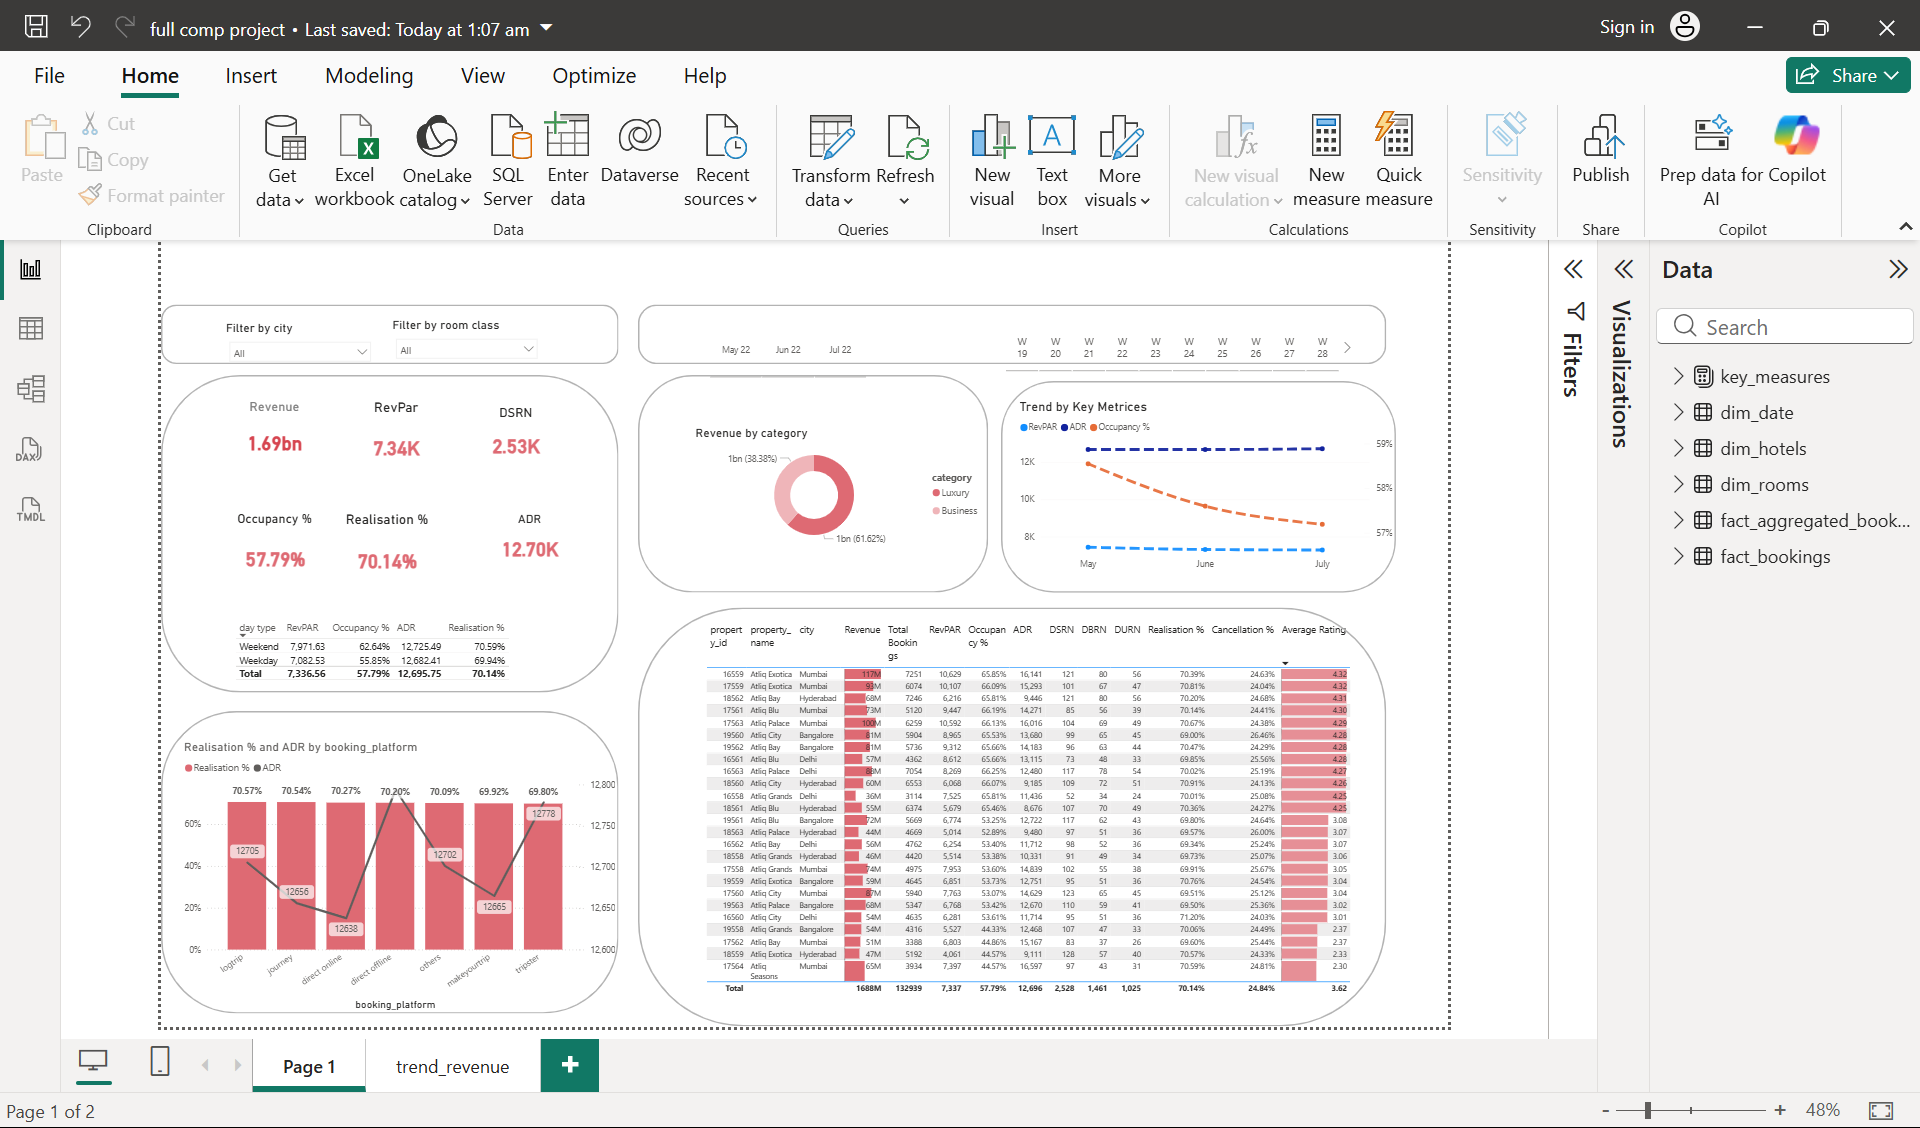

The dashboard page shown, as its layout file describes it:
{"tool":"powerbi","page":{"name":"Page 1","canvas":[1800,1100],"ordinal":0},"visuals":[{"type":"tableEx","fields":{"Values":["dim_hotels.property_id","dim_hotels.property_name","dim_hotels.city","key_measures.Revenue","key_measures.Total Bookings","key_measures.RevPAR","key_measures.Occupancy %","key_measures.ADR","key_measures.DSRN","key_measures.DBRN","key_measures.DURN","key_measures.Realisation %"]},"box":[756.2,529.2,956.2,552.1],"z":0},{"type":"slicer","fields":{"Values":["dim_date.mmm yy"]},"box":[741.7,108.3,266.7,89.6],"z":1000},{"type":"slicer","title":"Filter by city","fields":{"Values":["dim_hotels.city"]},"box":[85.4,112.5,217.2,60.4],"z":1000,"group":"g2"},{"type":"slicer","title":"Filter by room class","fields":{"Values":["dim_rooms.room_class"]},"box":[318.2,108.3,217.2,64.6],"z":2000,"group":"g2"},{"type":"donutChart","fields":{"Category":["dim_hotels.category"],"Y":["key_measures.Revenue"]},"box":[741.7,260.4,414.6,172.9],"z":2000},{"type":"slicer","fields":{"Values":["dim_date.week no"]},"box":[1156.2,108.3,514.6,81.2],"z":3000},{"type":"card","title":"Revenue","fields":{"Values":["key_measures.Revenue"]},"box":[66.7,222.9,183.1,101.3],"z":4000,"group":"g3"},{"type":"lineChart","title":"Trend by Key Metrices","fields":{"Y":["key_measures.RevPAR","key_measures.ADR"],"Category":["dim_date.mmm yy.Variation.Date Hierarchy.Month","dim_date.week no"],"Y2":["key_measures.Occupancy %"]},"box":[1195.8,222.9,531.2,247.9],"z":4000},{"type":"lineStackedColumnComboChart","fields":{"Category":["fact_bookings.booking_platform"],"Y":["key_measures.Realisation %"],"Y2":["key_measures.ADR"]},"box":[27.1,697.9,612.5,383.3],"z":5000},{"type":"tableEx","fields":{"Values":["key_measures.Revenue WoW change %"]},"box":[241.7,216.7,85.4,66.7],"z":6000},{"type":"group","id":"g1","title":"Group 2","box":[62.5,222.9,535.4,414.6],"z":7000},{"type":"group","id":"g2","title":"Group 3","box":[85.4,108.3,450,64.6],"z":8000},{"type":"card","title":"DSRN","fields":{"Values":["key_measures.DSRN"]},"box":[395.8,231.6,199.3,93],"z":8500,"group":"g3"},{"type":"card","title":"Occupancy %","fields":{"Values":["key_measures.Occupancy %"]},"box":[62.5,380,192.4,111.6],"z":8750,"group":"g3"},{"type":"card","title":"ADR","fields":{"Values":["key_measures.ADR"]},"box":[431,380.9,166.9,82.7],"z":8875,"group":"g3"},{"type":"shape","box":[0,89.6,639.6,83.3],"z":9000},{"type":"card","title":"RevPar","fields":{"Values":["key_measures.RevPAR"]},"box":[233.6,222.9,187.7,113.7],"z":9000,"group":"g3"},{"type":"shape","box":[666.7,89.6,1045.8,83.3],"z":10000},{"type":"tableEx","fields":{"Values":["dim_date.day type","key_measures.RevPAR","key_measures.Occupancy %","key_measures.ADR","key_measures.Realisation %"]},"box":[98.5,526.8,449.3,110.7],"z":10000,"group":"g1"},{"type":"shape","box":[666.7,189.6,489.6,304.2],"z":11000},{"type":"shape","box":[1175,197.9,552.1,295.8],"z":12000},{"type":"group","id":"g3","title":"Group 1","box":[62.5,222.9,535.4,266.7],"z":12000,"group":"g1"},{"type":"card","title":"Realisation %","fields":{"Values":["key_measures.Realisation %"]},"box":[233.6,380.4,162.2,113.7],"z":13000,"group":"g3"},{"type":"shape","box":[666.7,514.6,1045.8,585.4],"z":13000},{"type":"shape","box":[0,189.6,639.6,443.8],"z":14000},{"type":"shape","box":[0,658.3,639.6,422.9],"z":15000}]}

Visuals, with their boxes on the page's 1800x1100 design canvas (x1, y1, x2, y2). These are canvas units, not pixel positions in the 1920x1128 screenshot, which may show the page scaled, cropped or inside an application window:
tableEx - dim_hotels.property_id x dim_hotels.property_name: select_region(756, 529, 1712, 1081)
slicer - dim_date.mmm yy: select_region(742, 108, 1008, 198)
"Filter by city" slicer: select_region(85, 112, 303, 173)
"Filter by room class" slicer: select_region(318, 108, 535, 173)
donutChart - dim_hotels.category x key_measures.Revenue: select_region(742, 260, 1156, 433)
slicer - dim_date.week no: select_region(1156, 108, 1671, 190)
"Revenue" card: select_region(67, 223, 250, 324)
"Trend by Key Metrices" lineChart: select_region(1196, 223, 1727, 471)
lineStackedColumnComboChart - fact_bookings.booking_platform x key_measures.Realisation %: select_region(27, 698, 640, 1081)
tableEx - key_measures.Revenue WoW change %: select_region(242, 217, 327, 283)
"Group 2" group: select_region(62, 223, 598, 638)
"Group 3" group: select_region(85, 108, 535, 173)
"DSRN" card: select_region(396, 232, 595, 325)
"Occupancy %" card: select_region(62, 380, 255, 492)
"ADR" card: select_region(431, 381, 598, 464)
shape: select_region(0, 90, 640, 173)
"RevPar" card: select_region(234, 223, 421, 337)
shape: select_region(667, 90, 1712, 173)
tableEx - dim_date.day type x key_measures.RevPAR: select_region(98, 527, 548, 638)
shape: select_region(667, 190, 1156, 494)
shape: select_region(1175, 198, 1727, 494)
"Group 1" group: select_region(62, 223, 598, 490)
"Realisation %" card: select_region(234, 380, 396, 494)
shape: select_region(667, 515, 1712, 1100)
shape: select_region(0, 190, 640, 633)
shape: select_region(0, 658, 640, 1081)
